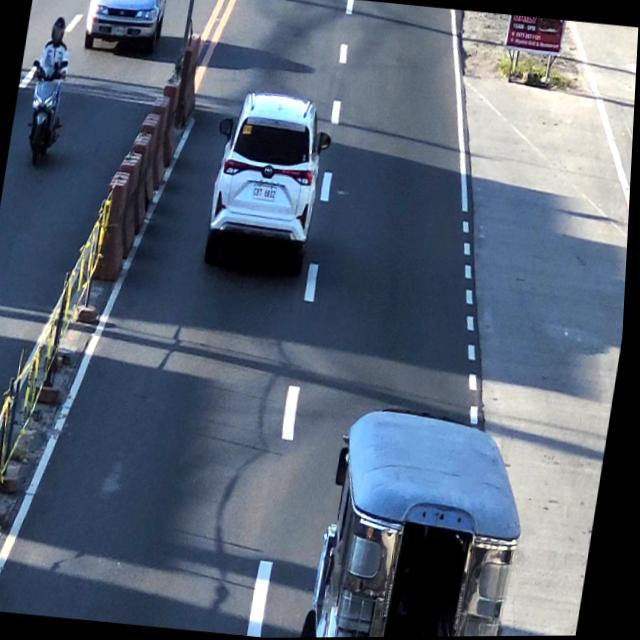Car: (200, 88, 331, 274)
Jeep: (313, 411, 538, 638)
License-Plate: (252, 178, 282, 205)
